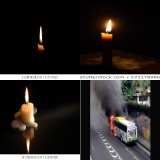fire: (108, 113, 116, 135), (105, 19, 114, 33), (24, 87, 30, 105), (39, 25, 43, 44)
